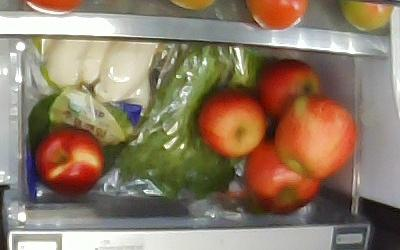apple: (275, 95, 357, 180), (245, 139, 320, 215), (197, 87, 269, 159), (35, 128, 104, 195), (257, 58, 324, 121)
